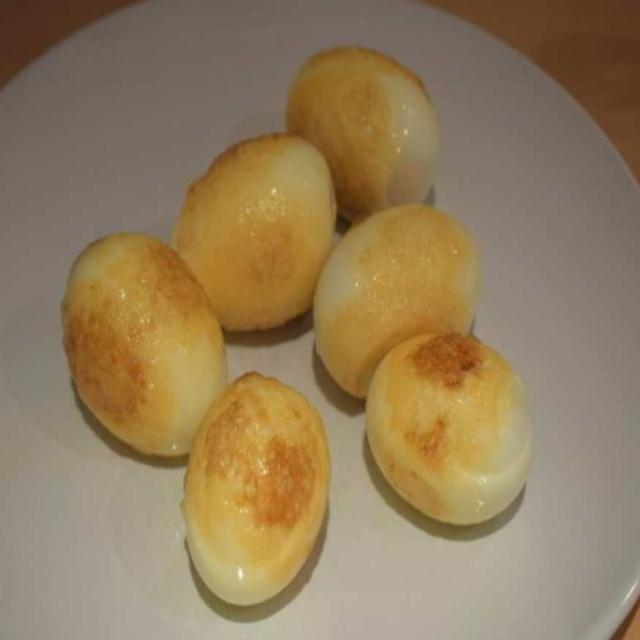EGG: (63, 48, 529, 605)
